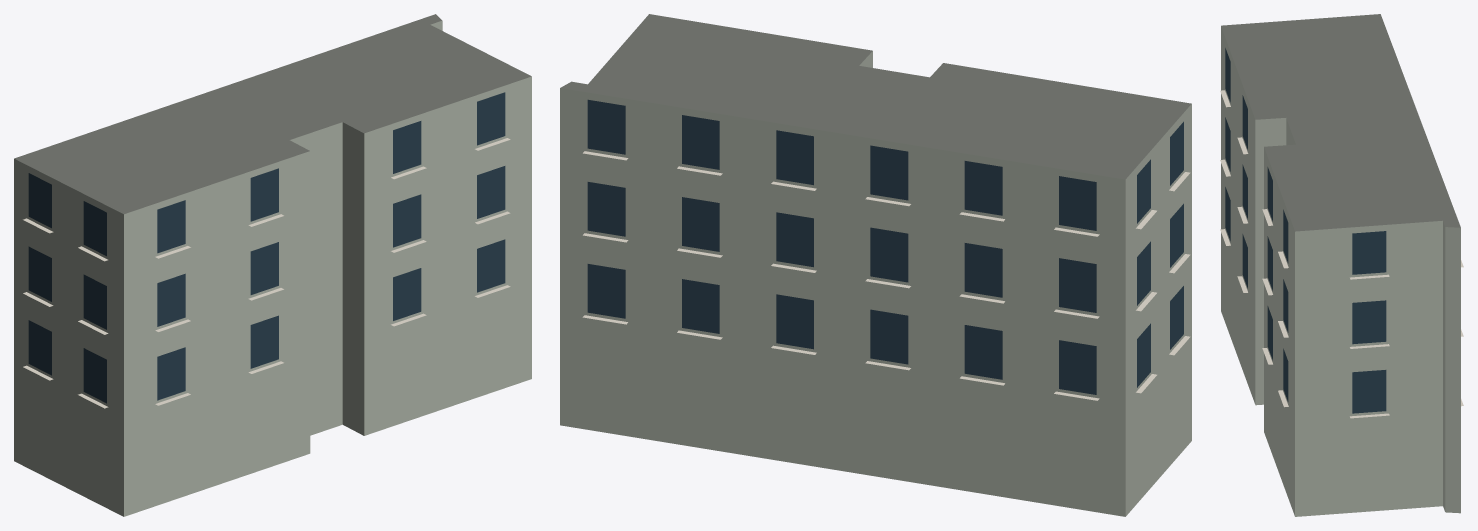
The picture shows the model from 3 angles, left to right: view 1: azimuth 30°, elevation 25°; view 2: azimuth 150°, elevation 25°; view 3: azimuth 270°, elevation 25°; orthographic projection. The views are drawn at different scales.
Visible parts, largest first — view 1: Footprint 0, Inferred window bays, Window sills; view 2: Footprint 0, Inferred window bays, Window sills; view 3: Footprint 0, Inferred window bays, Window sills.
Part boxes in pixels (box(x1,y1,x2,y2)): Footprint 0: box(14, 14, 531, 516); Inferred window bays: box(28, 92, 505, 403); Window sills: box(23, 138, 510, 408); Footprint 0: box(560, 14, 1191, 516); Inferred window bays: box(587, 99, 1183, 394); Window sills: box(582, 151, 1190, 400); Footprint 0: box(1221, 14, 1460, 516); Inferred window bays: box(1225, 48, 1386, 413); Window sills: box(1220, 90, 1463, 418).
Size of the model in its own units: 18.71 by 11.38 by 8.81.
